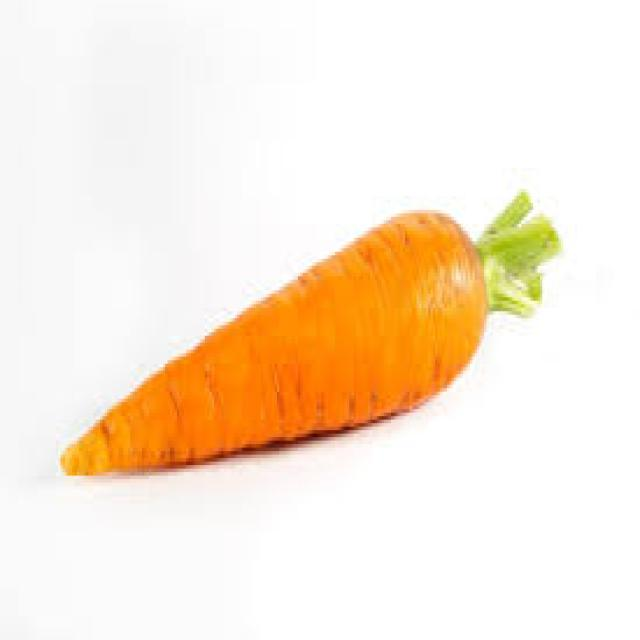carrot: (58, 185, 494, 476)
